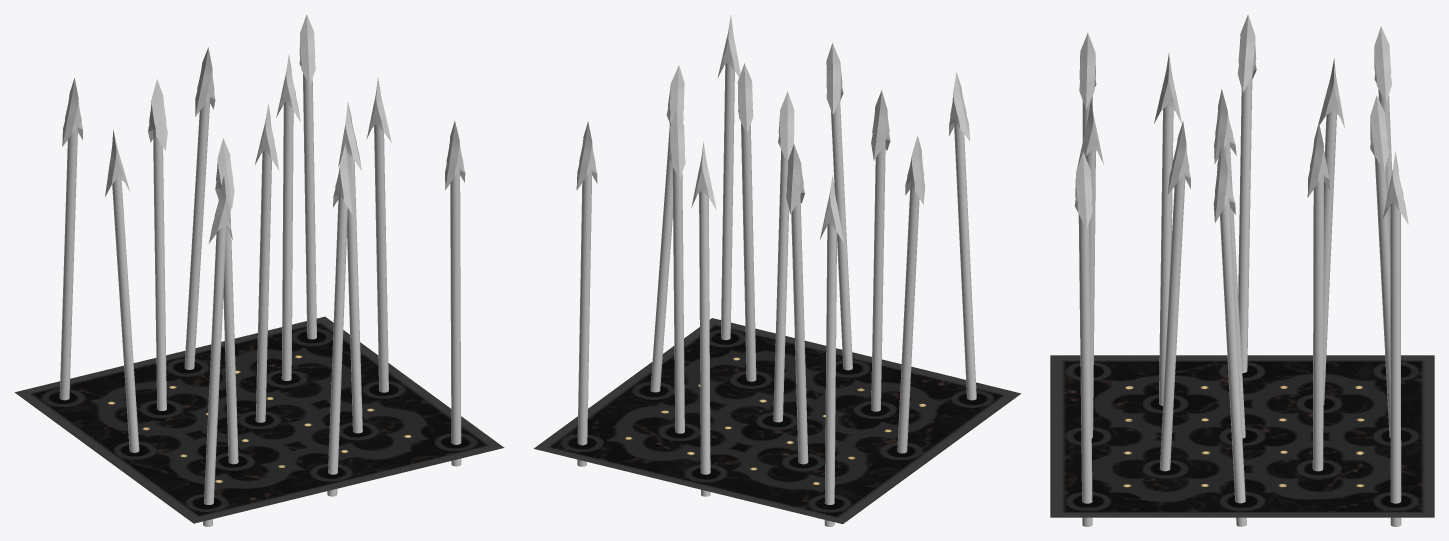
The model's file is Spikes.fbx.
The picture shows the model from 3 angles, left to right: view 1: azimuth 30°, elevation 25°; view 2: azimuth 150°, elevation 25°; view 3: azimuth 270°, elevation 25°; orthographic projection. The views are drawn at different scales.
Visible parts, largest first — view 1: Spikes, Spike_Jump; view 2: Spikes, Spike_Jump; view 3: Spikes, Spike_Jump.
Part boxes in pixels (box(x1,y1,x2,y2)): Spikes: box(15, 316, 504, 523); Spike_Jump: box(59, 14, 465, 526); Spikes: box(533, 318, 1021, 524); Spike_Jump: box(576, 15, 976, 526); Spikes: box(1050, 355, 1434, 517); Spike_Jump: box(1074, 14, 1408, 526).
Size of the model in its own units: 200 by 213 by 200.
